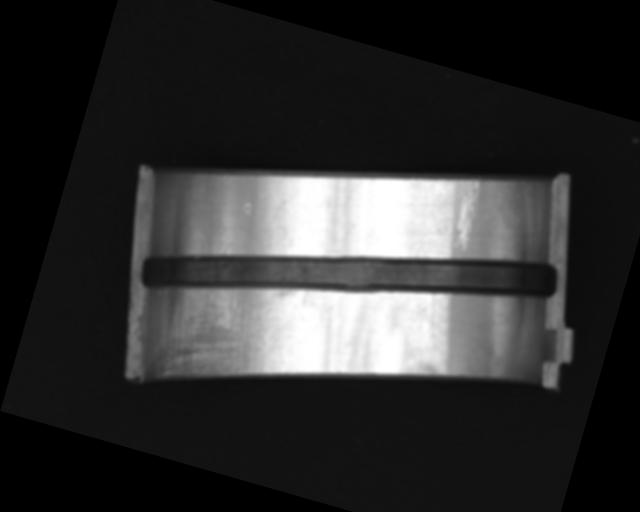bruise: (241, 201, 254, 215)
gap: (137, 156, 564, 396)
nick: (448, 174, 487, 254), (420, 290, 448, 338)
scratch: (142, 254, 300, 410)
